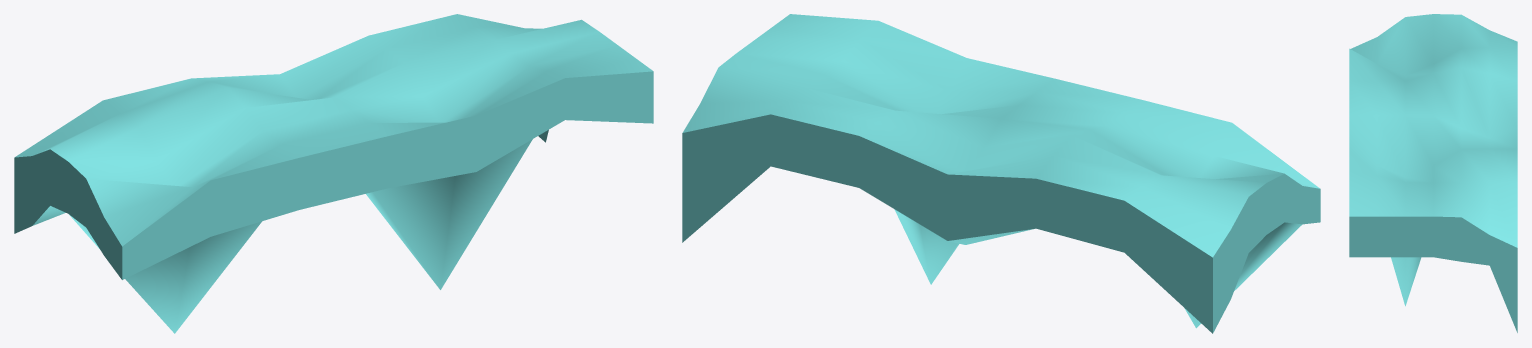
File: ice_platform.fbx
3 views of the same model, side by side, from view 1: azimuth 30°, elevation 25°; view 2: azimuth 150°, elevation 25°; view 3: azimuth 270°, elevation 25° (orthographic). The views are drawn at different scales.
Parts seen in each view (by area): view 1: pCube9; view 2: pCube9; view 3: pCube9.
Boxes of the visible parts, <box> form: pCube9: <box>14,14,653,333</box>; pCube9: <box>682,14,1320,333</box>; pCube9: <box>1349,14,1517,332</box>.
Size of the model in its own units: 1.38 by 0.5463 by 0.4864.
